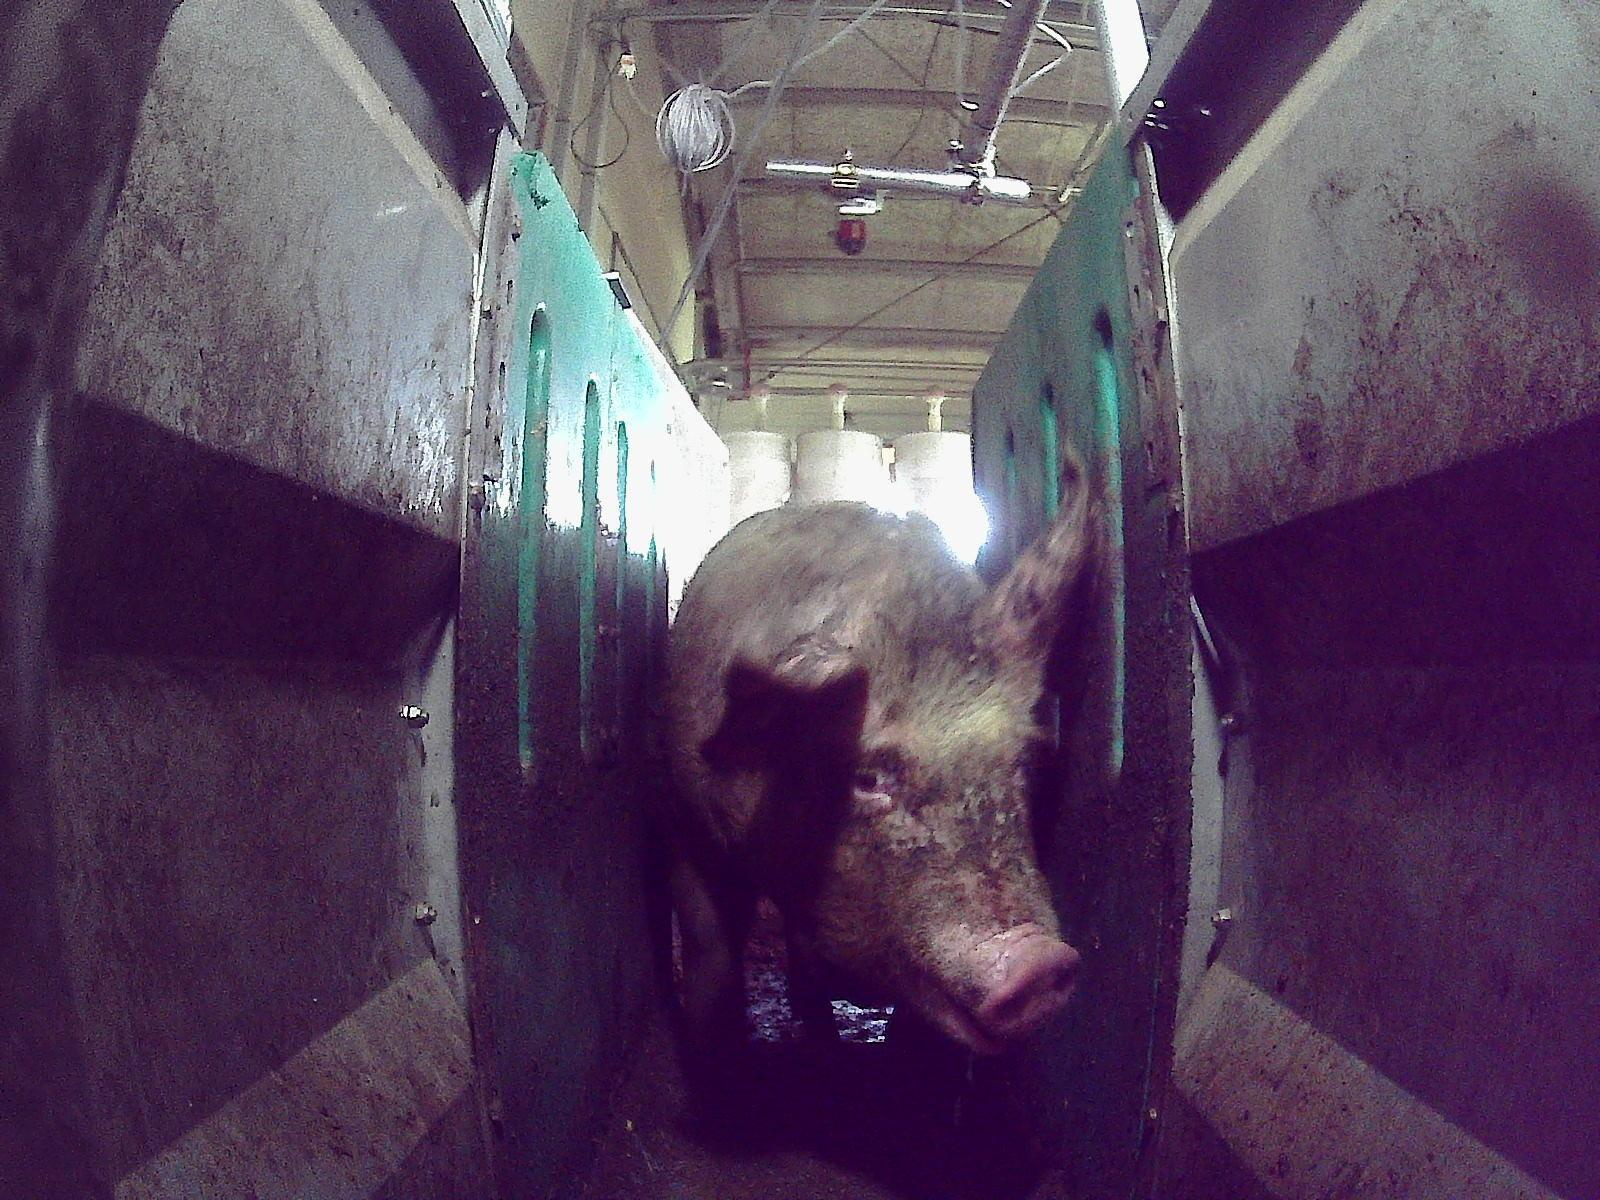Face: (749, 578, 1083, 1055)
